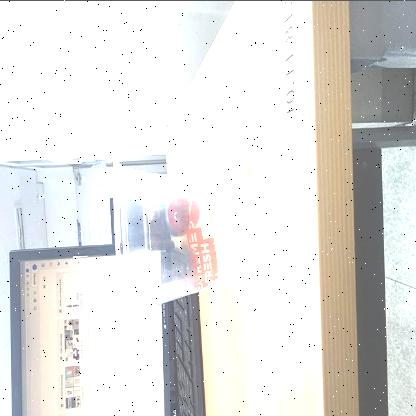Others: (112, 154, 262, 326)
